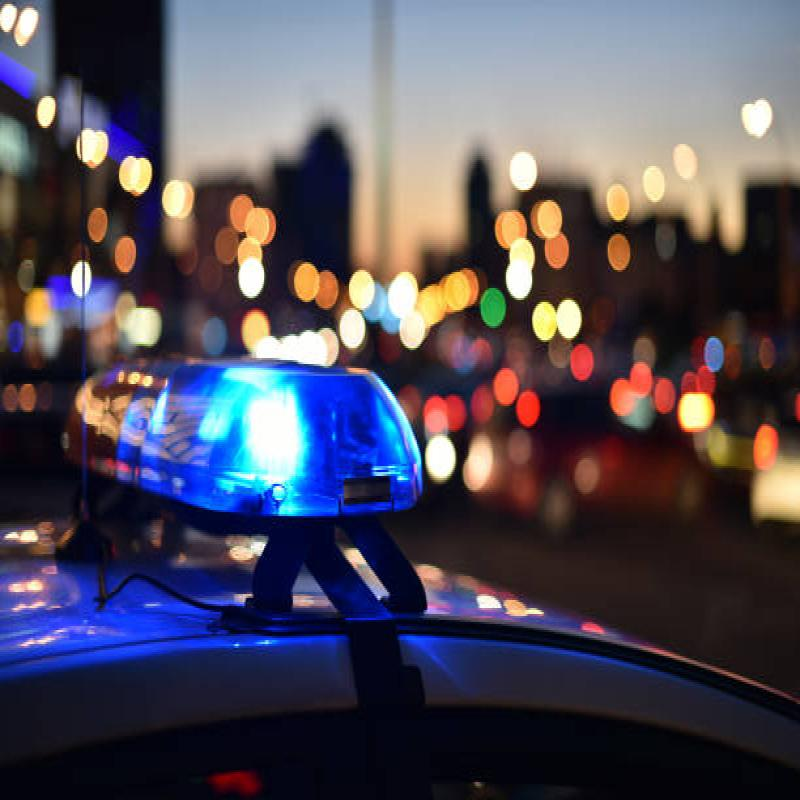AmbulanceSiren: (58, 299, 427, 598)
